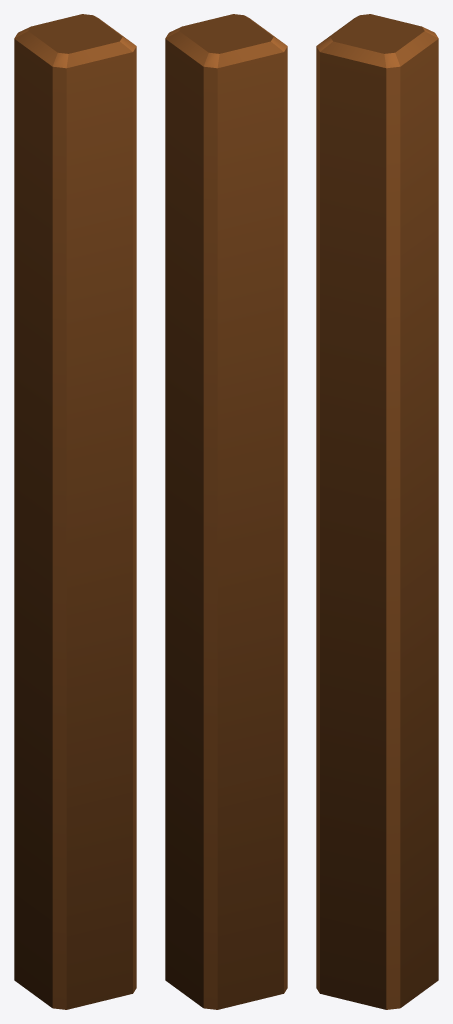
File: Poste-6.fbx
The picture shows the model from 3 angles, left to right: view 1: azimuth 30°, elevation 25°; view 2: azimuth 210°, elevation 25°; view 3: azimuth 330°, elevation 25°; orthographic projection.
Parts seen in each view (by area): view 1: Poste-6; view 2: Poste-6; view 3: Poste-6.
Part boxes in pixels (x1,y1,x2,y2): Poste-6: [14, 14, 136, 1009]; Poste-6: [165, 14, 287, 1009]; Poste-6: [316, 14, 438, 1009].
Bounding box in the file's own units: 38.52 × 415 × 38.52.
